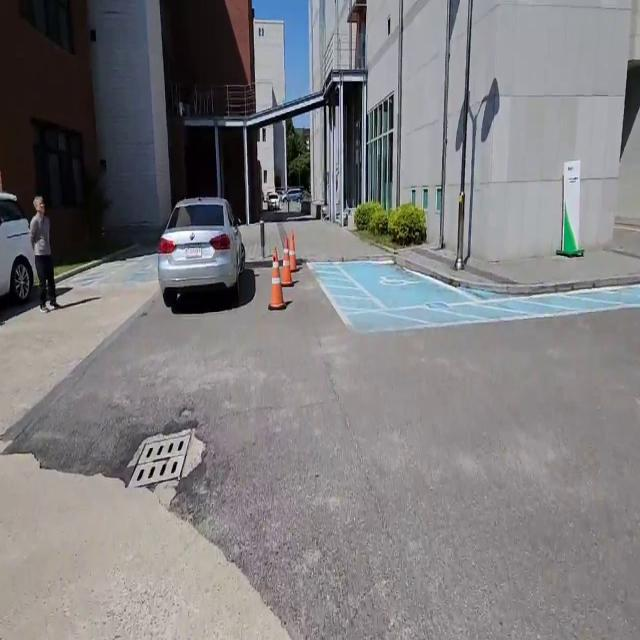car: (152, 185, 255, 318), (0, 184, 38, 324)
human: (30, 190, 61, 314)
